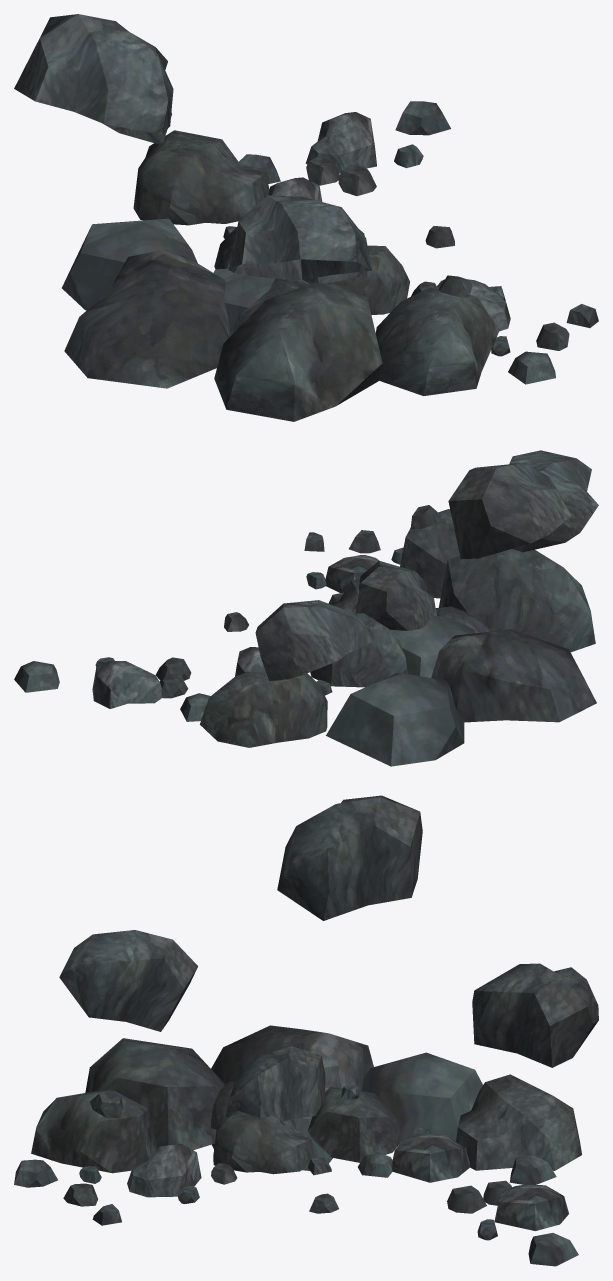
File: object_rubble10.fbx
3 views of the same model, one above another, from view 1: azimuth 30°, elevation 25°; view 2: azimuth 150°, elevation 25°; view 3: azimuth 270°, elevation 25° (orthographic). The views are drawn at different scales.
Visible parts, largest first — view 1: Material_#238683587/cliffside; view 2: Material_#238683587/cliffside; view 3: Material_#238683587/cliffside.
Part boxes in pixels (left/top/right/bottom): Material_#238683587/cliffside: left=14, top=14, right=598, bottom=421; Material_#238683587/cliffside: left=14, top=450, right=598, bottom=766; Material_#238683587/cliffside: left=14, top=795, right=598, bottom=1266.
Size of the model in its own units: 7.27 by 4.13 by 7.63.
